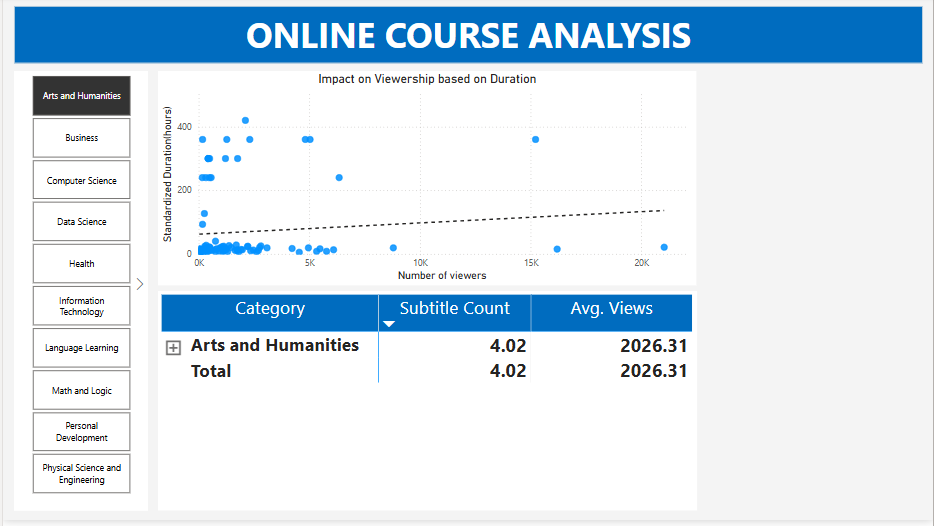

The dashboard page shown, as its layout file describes it:
{"tool":"powerbi","page":{"name":"Page 3","canvas":[1280,720],"ordinal":3},"visuals":[{"type":"textbox","box":[15.6,12.8,1251.5,79.4],"z":0},{"type":"shape","box":[15.5,101.9,184.5,605.2],"z":1000},{"type":"pivotTable","fields":{"Rows":["Online Courses.Category","Online Courses.Sub-Category"],"Values":["Avg(Online Courses.Count of Skills)","Avg(Online Courses.Number of viewers)"]},"box":[213.3,405,741.7,301.7],"z":2000},{"type":"slicer","fields":{"Values":["Online Courses.Category"]},"box":[15.6,102,184.3,588.2],"z":3000},{"type":"scatterChart","title":"Impact on Viewership based on Duration","fields":{"Y":["Online Courses.Standardized Duration(hours)"],"X":["Online Courses.Number of viewers"]},"box":[214,102,741.3,294.8],"z":4000}]}

Visuals, with their boxes in screenshot pixels (x1, y1, x2, y2), scaled from the page's 1280x720 canvas onto the 934x526 screenshot:
textbox: (x1=11, y1=9, x2=925, y2=67)
shape: (x1=11, y1=74, x2=146, y2=517)
pivotTable - Online Courses.Category x Online Courses.Sub-Category: (x1=156, y1=296, x2=697, y2=516)
slicer - Online Courses.Category: (x1=11, y1=75, x2=146, y2=504)
"Impact on Viewership based on Duration" scatterChart: (x1=156, y1=75, x2=697, y2=290)
